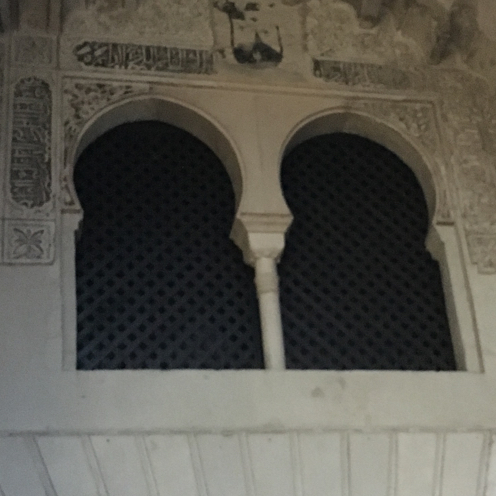arco-herradura: (63, 88, 266, 258), (267, 101, 453, 256)
